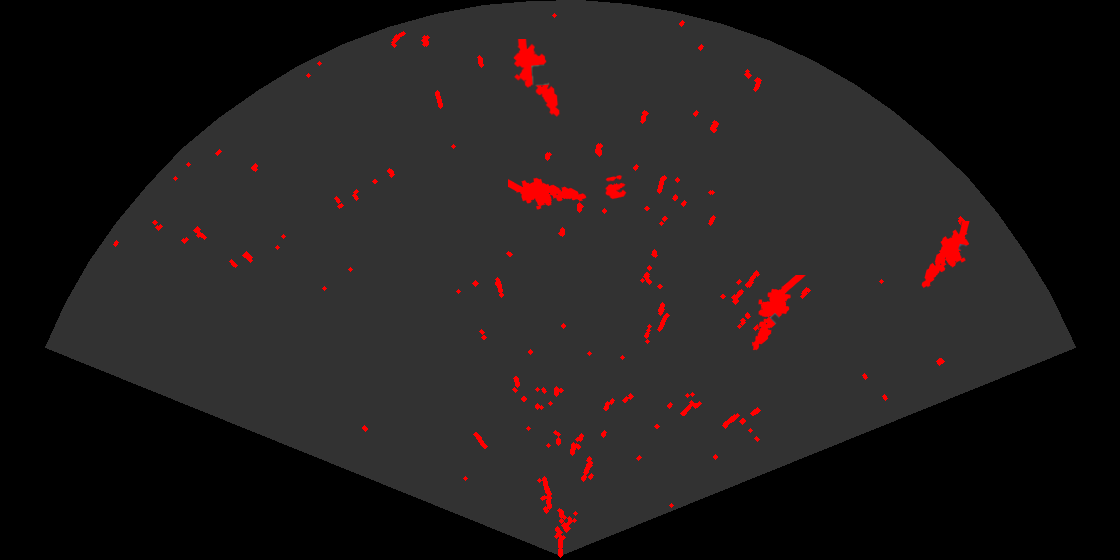ball: (603, 173, 628, 201)
frogman: (750, 275, 807, 352), (512, 39, 562, 118), (920, 221, 971, 289), (508, 176, 588, 211)
